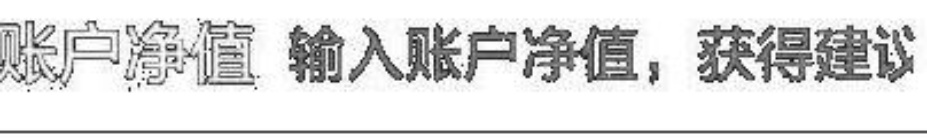EditText: (1, 1, 926, 139)
